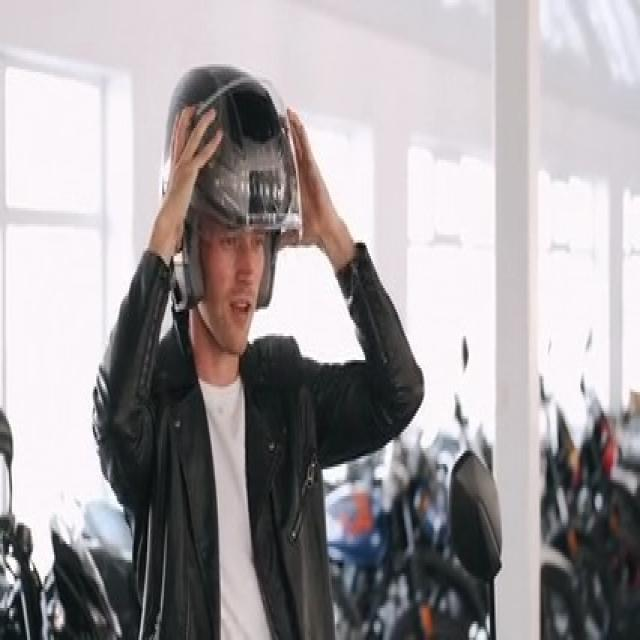Helmet_Wearer: (153, 55, 297, 357)
Jacket_Wearer: (92, 239, 422, 638)
Person: (91, 57, 428, 640)
